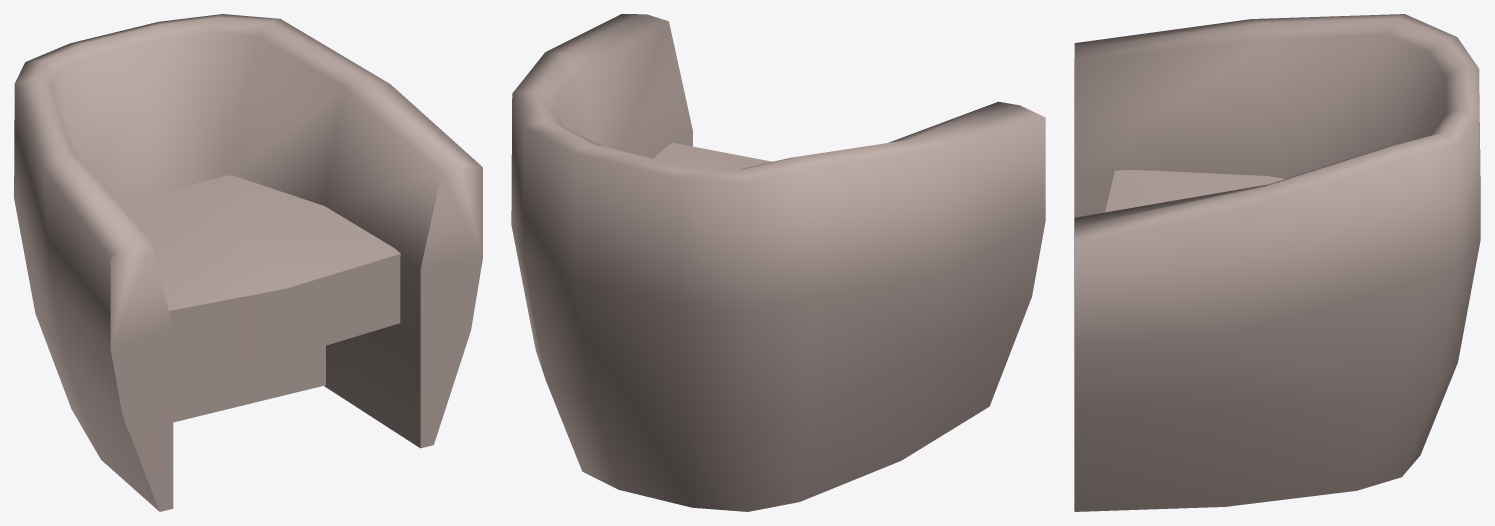
File: Sofa_Chair_M_02.fbx
The picture shows the model from 3 angles, left to right: view 1: azimuth 30°, elevation 25°; view 2: azimuth 150°, elevation 25°; view 3: azimuth 270°, elevation 25°; orthographic projection. The views are drawn at different scales.
Visible parts, largest first — view 1: Sofa_Chair_M_02; view 2: Sofa_Chair_M_02; view 3: Sofa_Chair_M_02.
Part boxes in pixels (x1,y1,x2,y2): Sofa_Chair_M_02: (14,14,482,511); Sofa_Chair_M_02: (511,14,1045,511); Sofa_Chair_M_02: (1074,14,1480,511).
Size of the model in its own units: 95.75 by 78.97 by 81.76.
1 material, 1 textured.
